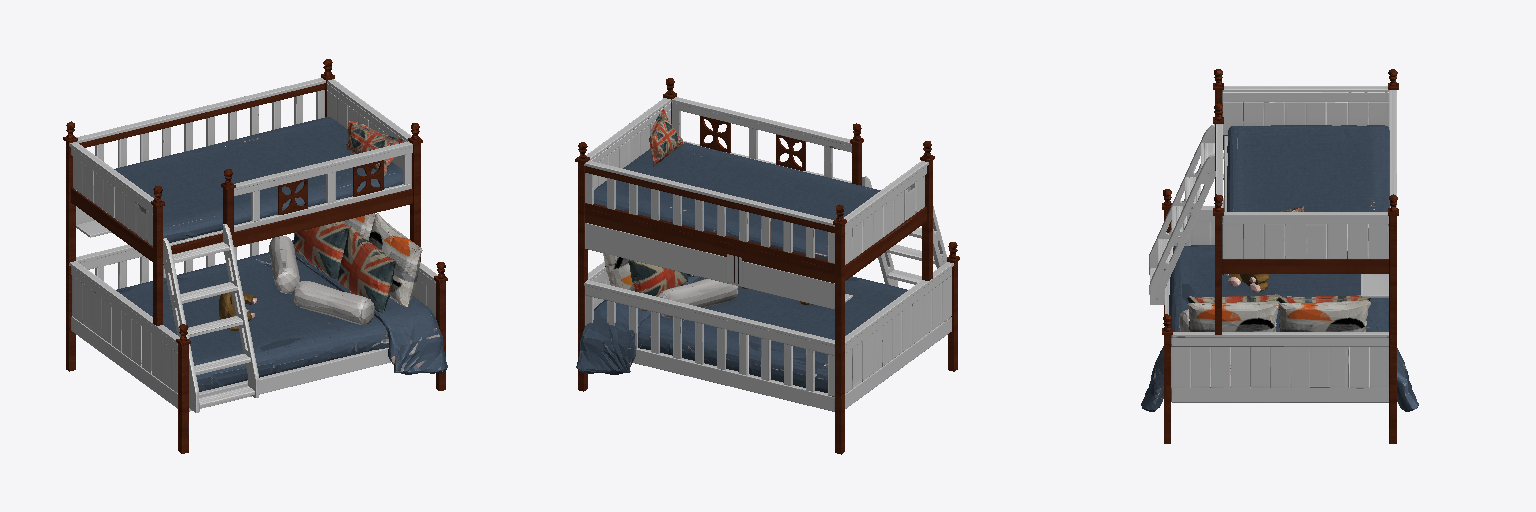
3 renders of one model, left to right at view 1: azimuth 30°, elevation 25°; view 2: azimuth 150°, elevation 25°; view 3: azimuth 270°, elevation 25°, orthographic.
Visible parts, largest first — view 1: solid_006, solid_002, solid_007, solid_004, solid_001, solid_003, solid_014; view 2: solid_006, solid_002, solid_007, solid_004, solid_001, solid_003; view 3: solid_006, solid_002, solid_007, solid_003, solid_004.
Boxes of the visible parts, x1,y1,x2,y2 form: solid_006: [69, 78, 437, 412]; solid_002: [114, 117, 447, 391]; solid_007: [63, 59, 447, 453]; solid_004: [293, 121, 402, 312]; solid_001: [269, 236, 374, 324]; solid_003: [342, 213, 422, 306]; solid_014: [219, 292, 255, 330]; solid_006: [584, 97, 953, 411]; solid_002: [576, 142, 907, 392]; solid_007: [575, 78, 959, 454]; solid_004: [628, 109, 694, 310]; solid_001: [657, 279, 746, 317]; solid_003: [603, 253, 634, 290]; solid_006: [1149, 86, 1396, 402]; solid_002: [1141, 125, 1418, 411]; solid_007: [1162, 69, 1398, 443]; solid_003: [1187, 300, 1370, 331]; solid_004: [1187, 206, 1370, 329].
Bounding box in the file's own units: 1.44 × 1.28 × 1.3.
Materials: 1 (1 with a texture image).